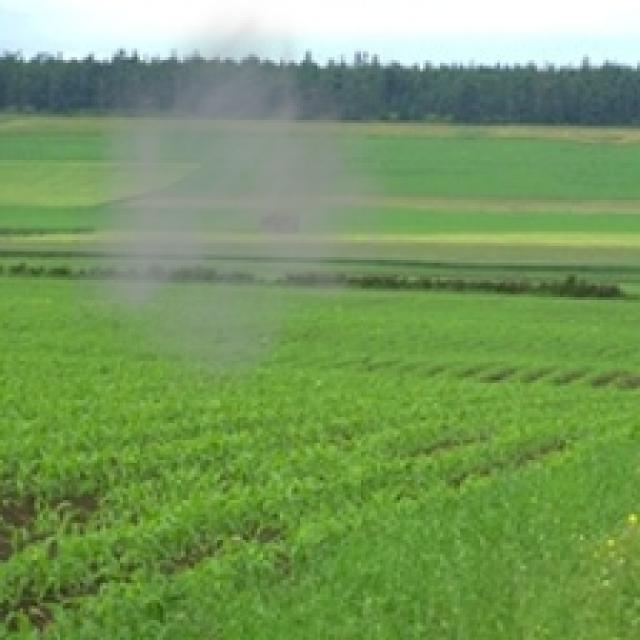smoke: (71, 0, 429, 412)
